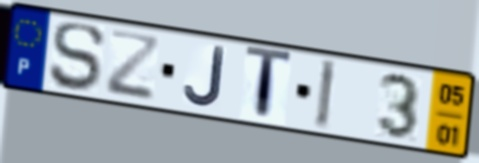3: (376, 71, 423, 141)
I: (312, 56, 340, 133)
J: (182, 44, 228, 110)
S: (47, 21, 108, 93)
T: (243, 43, 295, 126)
Z: (103, 26, 163, 104)
